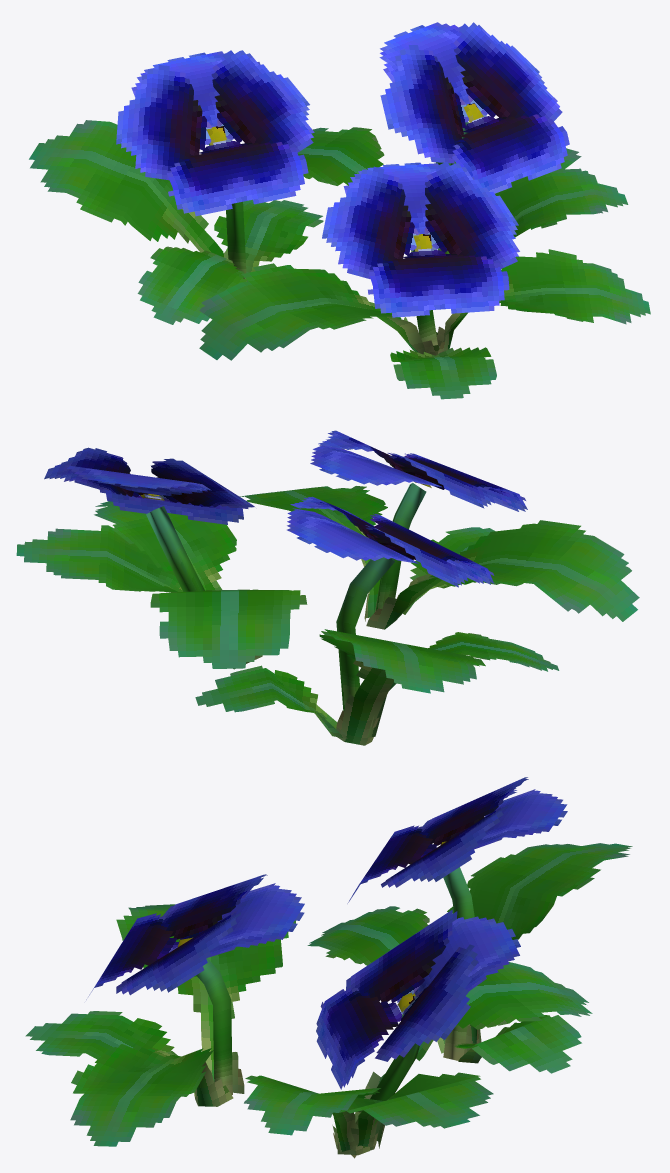
The model's file is blue-pansies.glb.
3 views of the same model, one above another, from view 1: azimuth 30°, elevation 25°; view 2: azimuth 150°, elevation 25°; view 3: azimuth 270°, elevation 25° (orthographic). The views are drawn at different scales.
Bounding box in the file's own units: 10.83 × 4.92 × 10.68.
2 materials, 2 textured.
